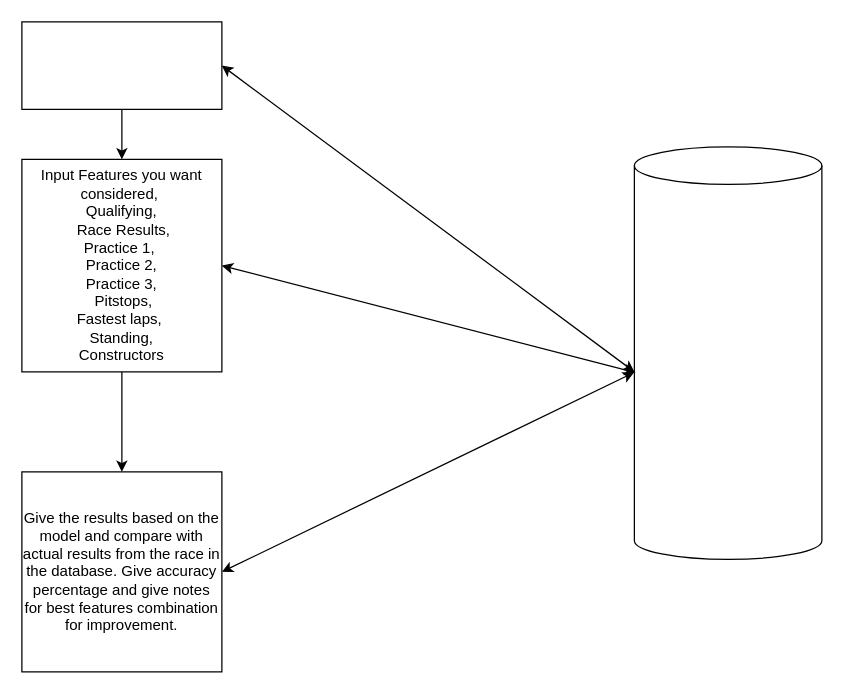
This 844x694 diagram has some shape labels left out. The shapes that lost their labels are listed below. From the top down, each one's centre as x and y in pixels, then its label:
At point (121, 65): "Input Race you want to predict. And what you want predicted.".
At point (727, 352): "Database".
